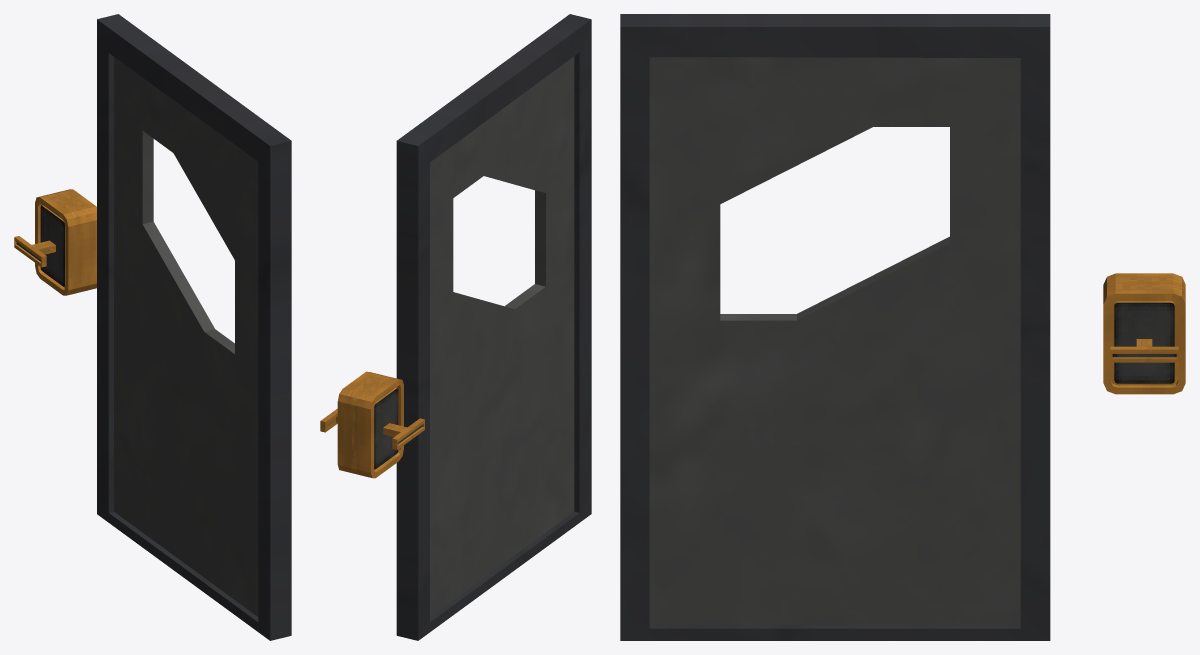
The model's file is door.glb.
3 views of the same model, side by side, from view 1: azimuth 30°, elevation 25°; view 2: azimuth 150°, elevation 25°; view 3: azimuth 270°, elevation 25° (orthographic). The views are drawn at different scales.
Visible parts, largest first — view 1: Door, DoorFrame, DoorButton_outside, DoorButton_inside, DoorLever_outside; view 2: Door, DoorFrame, DoorButton_outside, DoorButton_inside, DoorLever_outside; view 3: Door, DoorFrame, DoorButton_inside, DoorLever_inside, DoorButton_outside.
Part boxes in pixels (bbox=[...]): Door: bbox=[114, 57, 258, 616]; DoorFrame: bbox=[97, 14, 291, 640]; DoorButton_outside: bbox=[35, 192, 88, 295]; DoorButton_inside: bbox=[52, 189, 96, 292]; DoorLever_outside: bbox=[14, 236, 55, 267]; Door: bbox=[430, 56, 574, 616]; DoorFrame: bbox=[396, 14, 591, 640]; DoorButton_outside: bbox=[350, 376, 403, 478]; DoorButton_inside: bbox=[337, 371, 387, 474]; DoorLever_outside: bbox=[383, 418, 424, 449]; Door: bbox=[649, 57, 1020, 625]; DoorFrame: bbox=[620, 14, 1050, 640]; DoorButton_inside: bbox=[1103, 281, 1185, 394]; DoorLever_inside: bbox=[1110, 339, 1178, 362]; DoorButton_outside: bbox=[1103, 273, 1185, 296].
Size of the model in its own units: 0.4836 by 2.97 by 2.48.
Materials: 4 (4 with a texture image).
